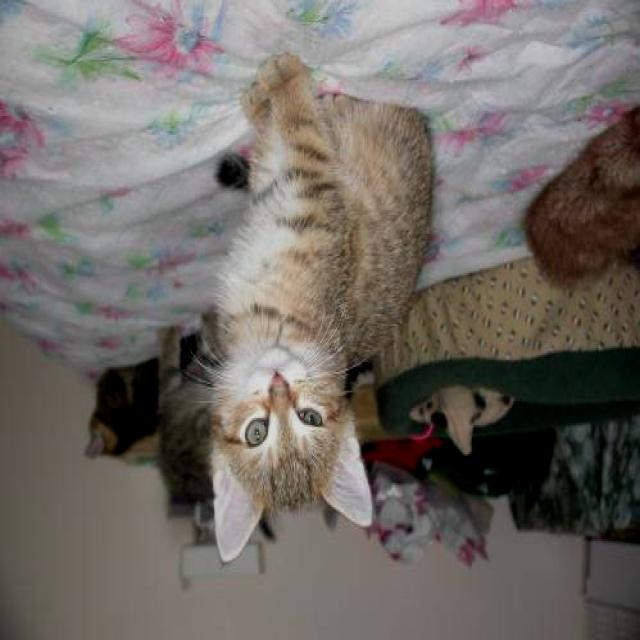Kucing: (63, 51, 494, 604)
